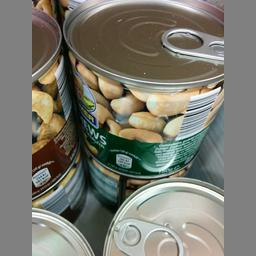nuts: (62, 0, 222, 176)
